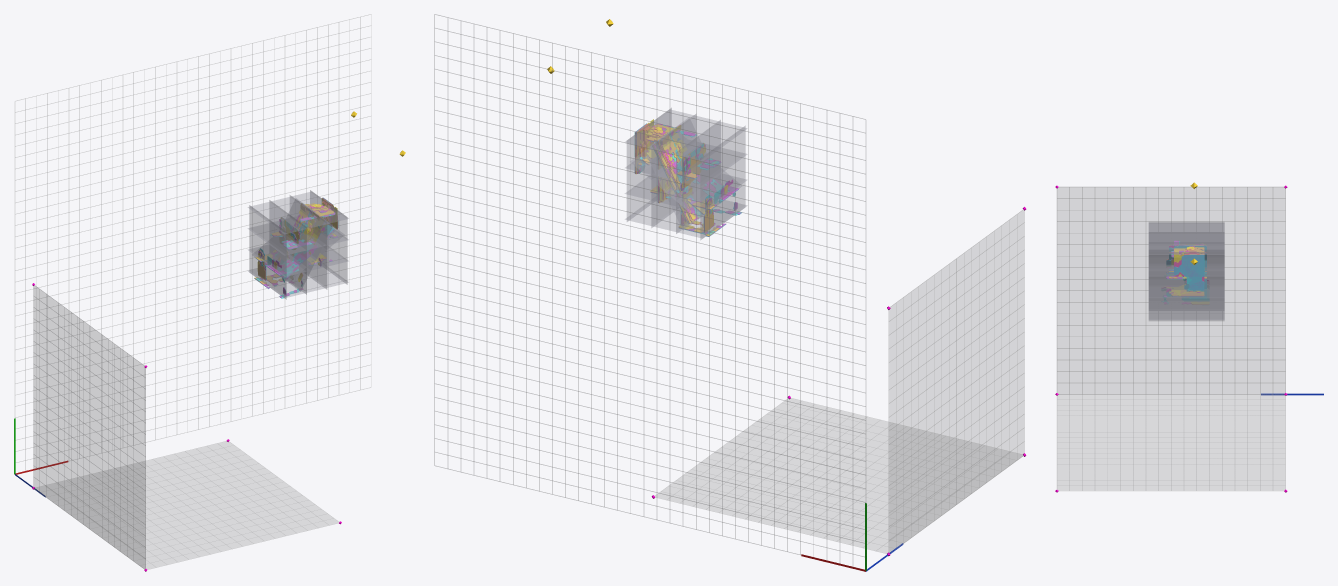
File: redfuji_storm_thickness.obj
The picture shows the model from 3 angles, left to right: view 1: azimuth 30°, elevation 25°; view 2: azimuth 150°, elevation 25°; view 3: azimuth 270°, elevation 25°; orthographic projection. The views are drawn at different scales.
Visible parts, largest first — view 1: wall_A, wall_B, grid_floor, panel_A0, panel_B3, Y, panel_A1, panel_B0, panel_B2, M, panel_A3, grid_wallA (+6 smaller); view 2: wall_A, wall_B, grid_floor, panel_A0, panel_B3, Y, grid_wallA, grid_wallB, panel_A1, M, panel_B0, panel_B2 (+6 smaller); view 3: wall_A, wall_B, panel_A3, grid_wallA, panel_B3, panel_A2, C, grid_wallB, M, panel_B0, panel_A0, panel_B1 (+3 smaller).
Part boxes in pixels (box(x1,y1,x2,y2)): wall_A: box(34, 286, 145, 568); wall_B: box(36, 441, 338, 569); grid_floor: box(15, 14, 371, 470); panel_A0: box(249, 205, 286, 299); panel_B3: box(248, 192, 348, 234); Y: box(254, 198, 337, 284); panel_A1: box(269, 200, 306, 294); panel_B0: box(248, 267, 348, 297); panel_B2: box(248, 223, 348, 255); M: box(254, 198, 337, 297); panel_A3: box(310, 190, 347, 284); grid_wallA: box(33, 286, 145, 565); wall_A: box(889, 210, 1024, 552); wall_B: box(655, 398, 1022, 553); grid_floor: box(434, 14, 865, 556); panel_A0: box(700, 126, 745, 239); panel_B3: box(625, 110, 747, 160); Y: box(635, 119, 728, 235); grid_wallA: box(888, 210, 1024, 548); grid_wallB: box(655, 398, 1021, 552); panel_A1: box(676, 120, 720, 233); M: box(635, 123, 740, 236); panel_B0: box(625, 200, 747, 238); panel_B2: box(625, 148, 747, 186); wall_A: box(1057, 187, 1285, 393); wall_B: box(1057, 394, 1285, 490); panel_A3: box(1149, 252, 1224, 320); grid_wallA: box(1057, 187, 1285, 394); panel_B3: box(1149, 223, 1224, 254); panel_A2: box(1149, 242, 1224, 308); C: box(1162, 241, 1209, 301); grid_wallB: box(1057, 394, 1285, 490); M: box(1162, 240, 1208, 303); panel_B0: box(1149, 309, 1224, 319); panel_A0: box(1149, 222, 1224, 231); panel_B1: box(1149, 287, 1224, 297).
Size of the model in its own units: 3318 by 3318 by 2115.
